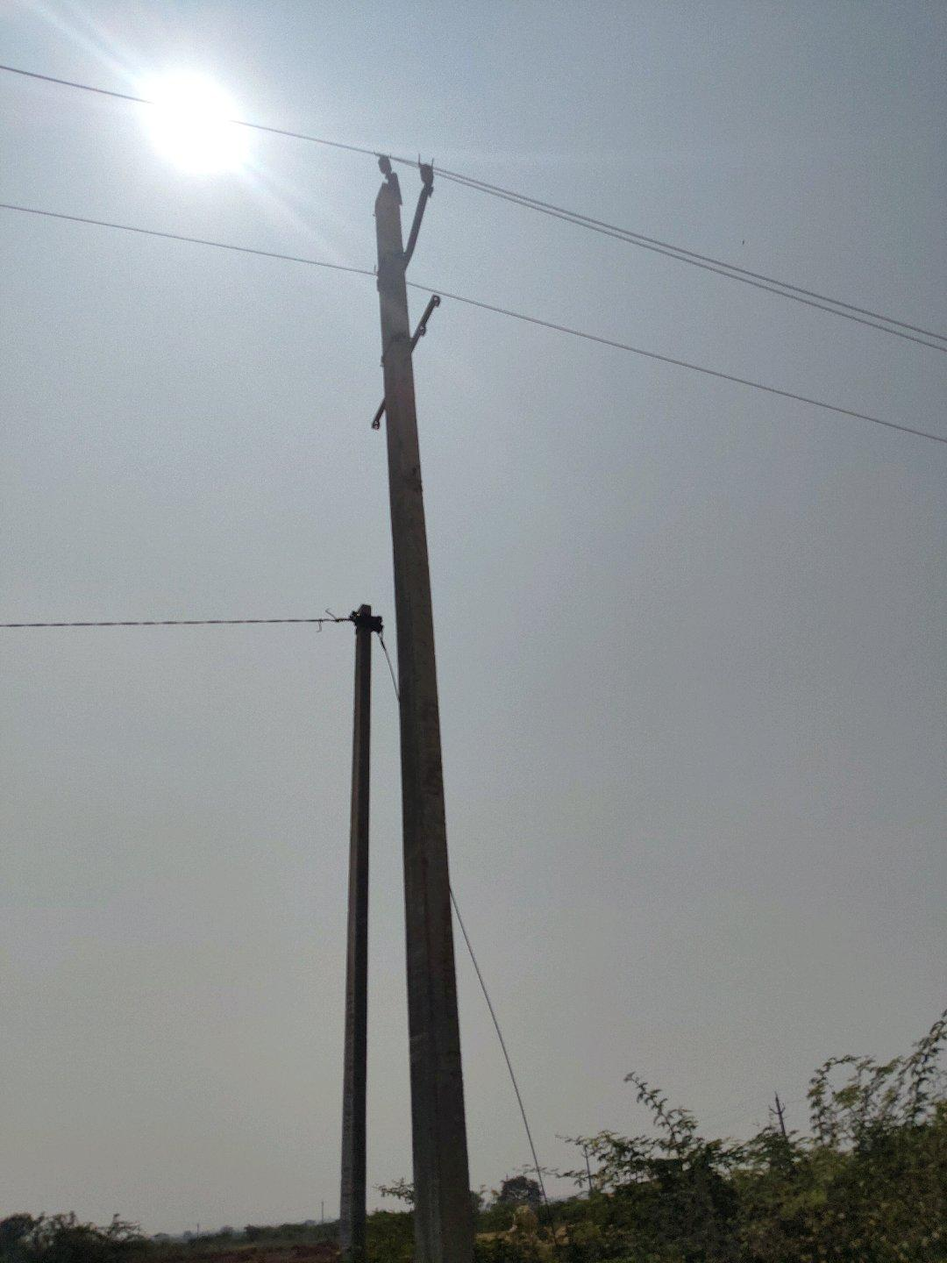{"0" "insulator", "1" "pole", "2" "crossarm", "3" "conductor", "4" "street_: (372, 159, 472, 1262), (373, 614, 381, 632), (352, 617, 352, 623)
